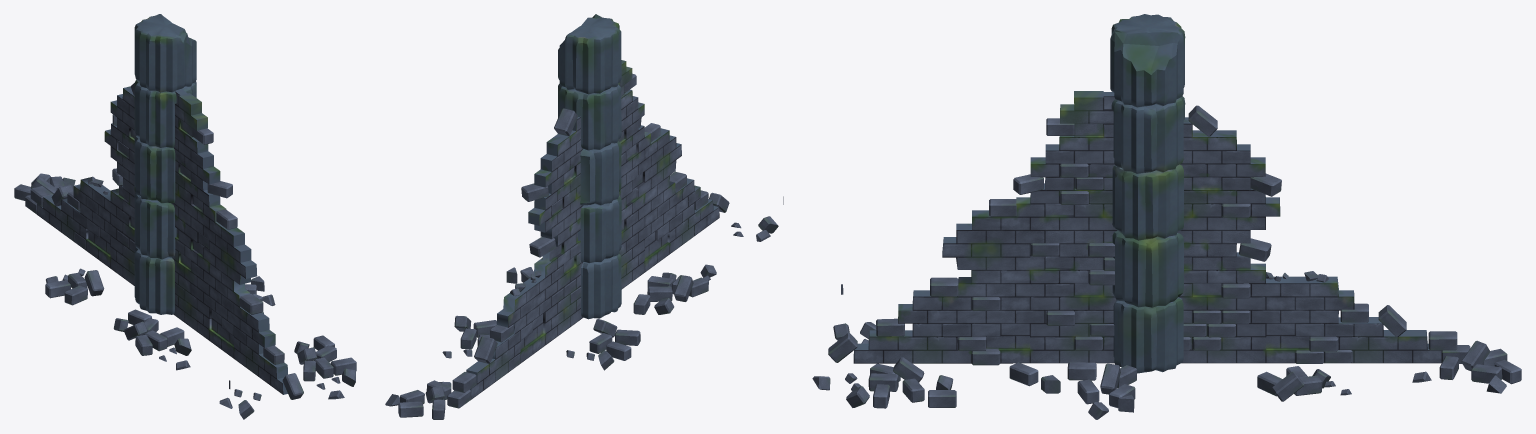
File: wall_med.obj
3 renders of one model, left to right at view 1: azimuth 30°, elevation 25°; view 2: azimuth 150°, elevation 25°; view 3: azimuth 270°, elevation 25°, orthographic. The views are drawn at different scales.
Parts seen in each view (by area): view 1: Wall8_Estructura1_0, Pillar8_Material.001_0, Bricks8_Estructura1_0; view 2: Wall8_Estructura1_0, Pillar8_Material.001_0, Bricks8_Estructura1_0; view 3: Wall8_Estructura1_0, Bricks8_Estructura1_0, Pillar8_Material.001_0.
Boxes of the visible parts, bbox=[...] form: Wall8_Estructura1_0: bbox=[36, 86, 287, 394]; Pillar8_Material.001_0: bbox=[134, 14, 196, 314]; Bricks8_Estructura1_0: bbox=[14, 83, 356, 419]; Wall8_Estructura1_0: bbox=[466, 60, 719, 399]; Pillar8_Material.001_0: bbox=[558, 14, 621, 319]; Bricks8_Estructura1_0: bbox=[385, 73, 783, 419]; Wall8_Estructura1_0: bbox=[853, 91, 1441, 363]; Bricks8_Estructura1_0: bbox=[812, 105, 1521, 419]; Pillar8_Material.001_0: bbox=[1110, 14, 1185, 373].
Size of the model in its own units: 1.57 by 2.58 by 4.83.
